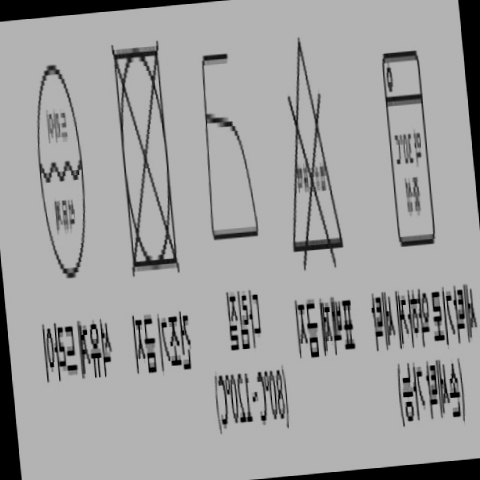30C: (372, 44, 446, 258)
DN_tumble_dry: (93, 31, 191, 287)
dry_clean_petrol_only: (13, 46, 103, 290)
iron: (186, 44, 272, 256)
non_chlorine_bleach: (263, 35, 349, 274)
